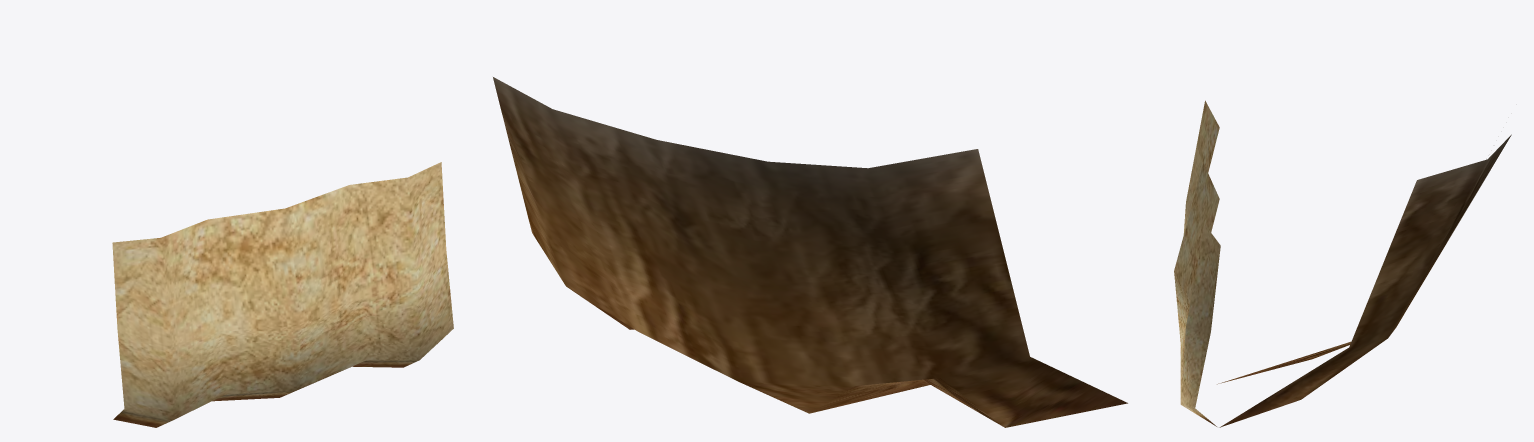
3 views of the same model, side by side, from view 1: azimuth 30°, elevation 25°; view 2: azimuth 150°, elevation 25°; view 3: azimuth 270°, elevation 25° (orthographic). The views are drawn at different scales.
Visible parts, largest first — view 1: model_Object14; view 2: model_Object14; view 3: model_Object14.
Boxes of the visible parts, x1,y1,x2,y2 form: model_Object14: (112, 162, 453, 427); model_Object14: (493, 77, 1127, 427); model_Object14: (1174, 100, 1511, 427).
Size of the model in its own units: 1 by 0.7453 by 0.8805.
Materials: 1 (1 with a texture image).
